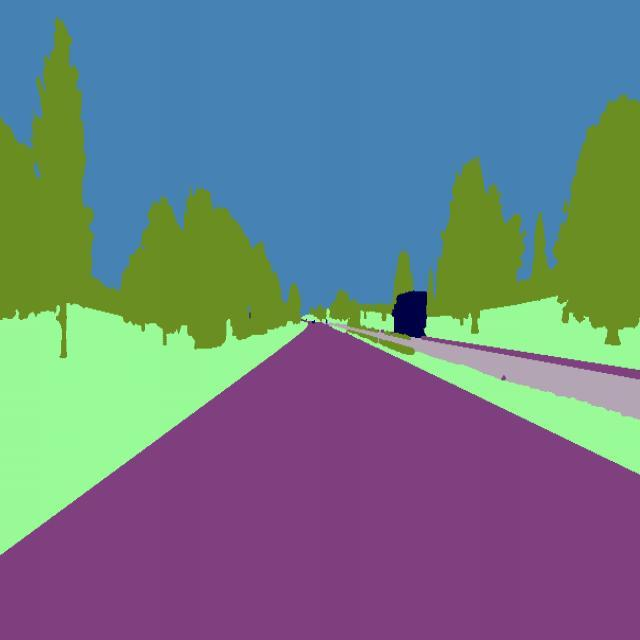safe: (391, 289, 429, 341)
